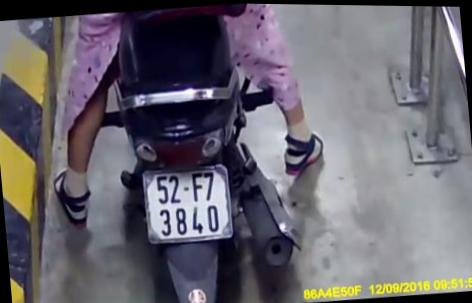LP: (138, 159, 237, 247)
